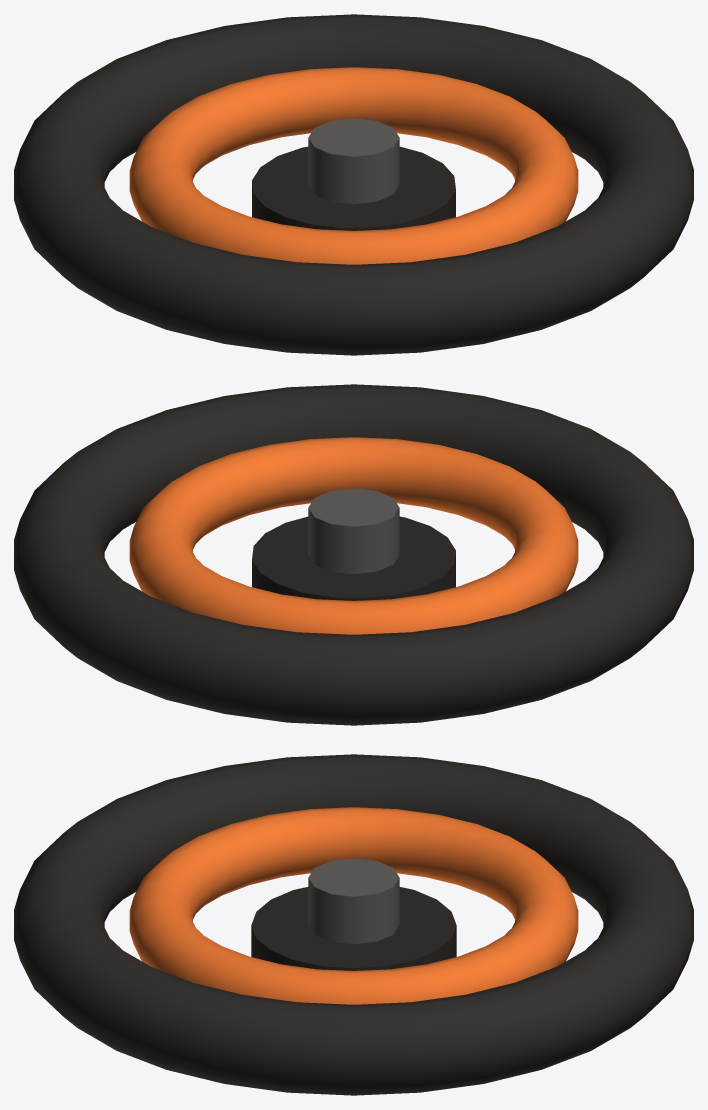
Rendered from home_tool_burner_ring.glb.
3 views of the same model, one above another, from view 1: azimuth 30°, elevation 25°; view 2: azimuth 150°, elevation 25°; view 3: azimuth 270°, elevation 25° (orthographic).
Size of the model in its own units: 0.3 by 0.043 by 0.2984.
